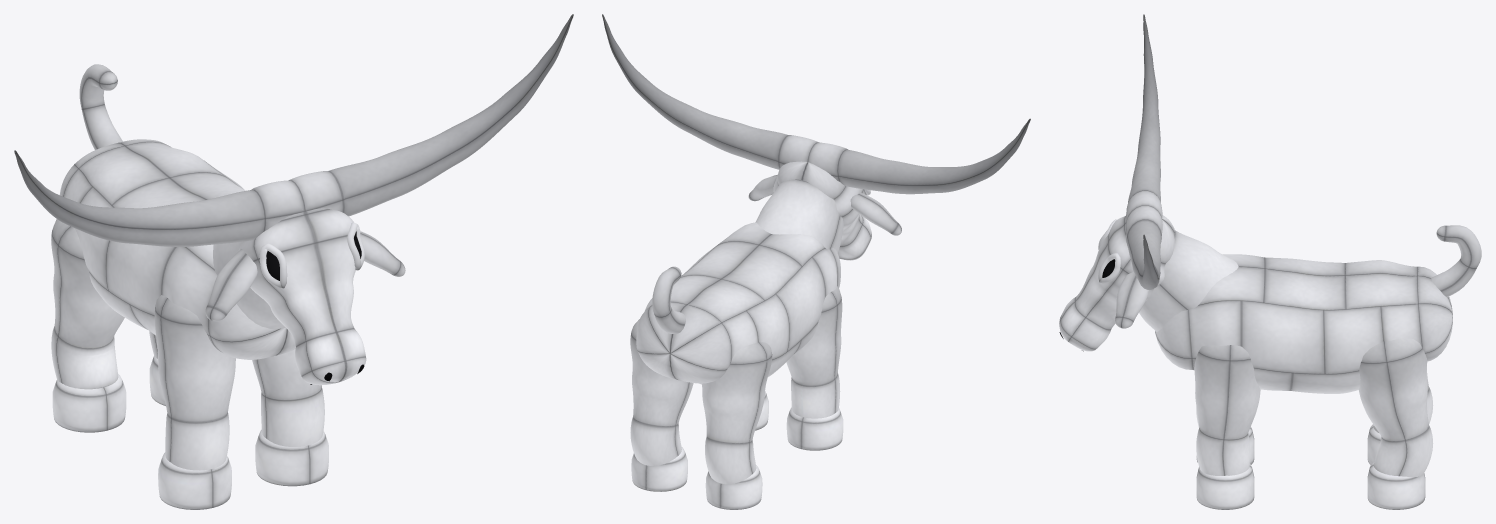
The model's file is longhorn-standing.glb.
3 views of the same model, side by side, from view 1: azimuth 30°, elevation 25°; view 2: azimuth 150°, elevation 25°; view 3: azimuth 270°, elevation 25° (orthographic). The views are drawn at different scales.
Parts seen in each view (by area): view 1: body, head; view 2: body, head; view 3: body, head.
Part boxes in pixels (bbox=[...]): body: bbox=[51, 64, 328, 509]; head: bbox=[14, 14, 573, 385]; body: bbox=[630, 222, 843, 509]; head: bbox=[602, 14, 1030, 260]; body: bbox=[1155, 225, 1481, 509]; head: bbox=[1059, 14, 1238, 351].
Bounding box in the file's own units: 8.27 × 6.19 × 6.68.
2 materials, 1 textured.
